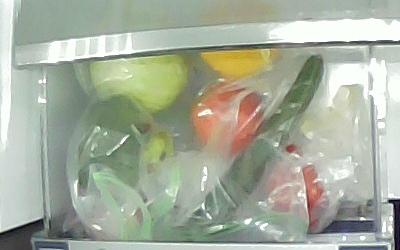apple_vinyl: (190, 81, 265, 158)
broccoli_vinyl: (79, 94, 175, 192)
cucumber_vinyl: (173, 53, 324, 241)
grapefruit_vinyl: (198, 48, 278, 78)
lettuce_vinyl: (89, 54, 187, 113)
paprika_vinyl: (266, 143, 327, 230)
